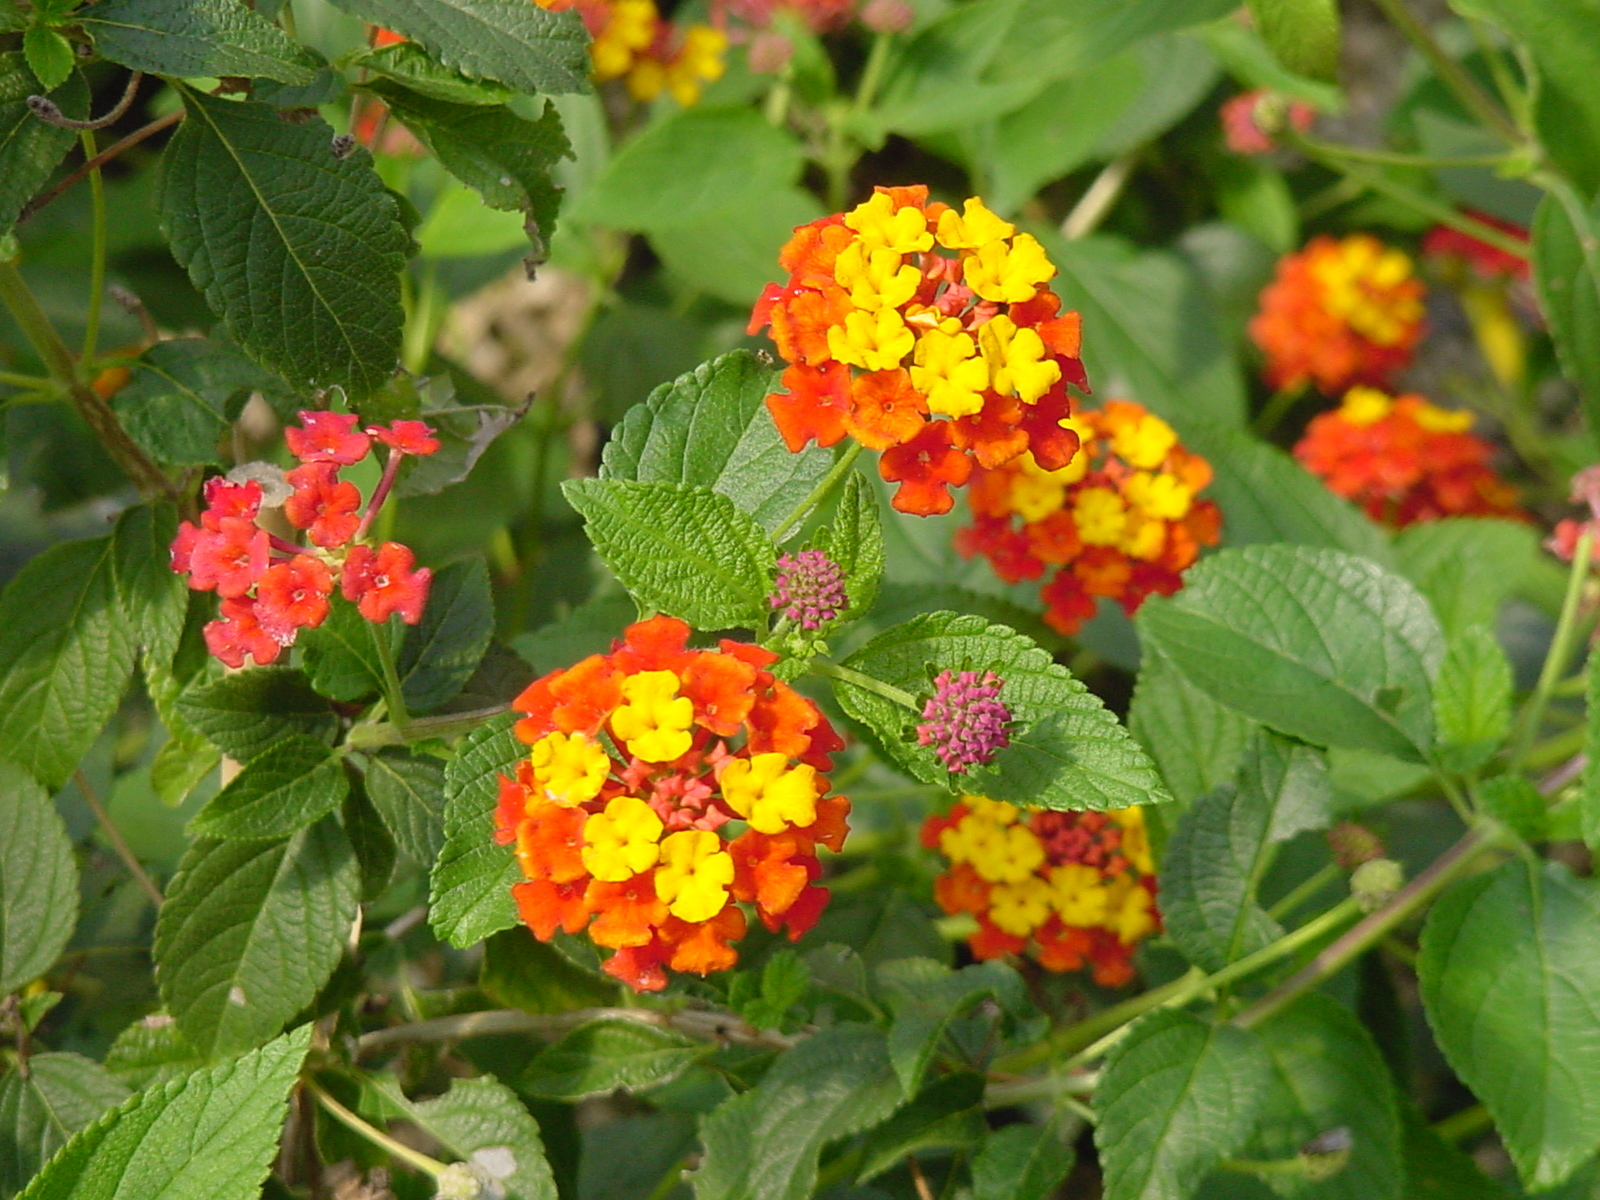lantana: (881, 427, 971, 517), (770, 364, 855, 445), (724, 758, 819, 829), (283, 463, 362, 548), (656, 833, 734, 919), (979, 316, 1058, 400), (341, 545, 425, 623), (913, 332, 990, 416), (615, 674, 690, 760), (582, 797, 658, 881), (847, 371, 929, 445), (968, 234, 1054, 303), (262, 560, 334, 642), (583, 874, 664, 945), (682, 654, 753, 734), (770, 289, 850, 359), (205, 596, 282, 668), (515, 800, 586, 879), (731, 834, 803, 910), (193, 523, 270, 594), (743, 679, 813, 754), (530, 732, 605, 800), (839, 247, 923, 306), (830, 311, 910, 371), (959, 400, 1028, 465), (289, 410, 367, 465), (849, 195, 929, 250), (936, 199, 1012, 247), (991, 874, 1049, 935), (369, 418, 436, 459), (1104, 879, 1149, 938), (1053, 868, 1100, 925), (985, 832, 1036, 877)
